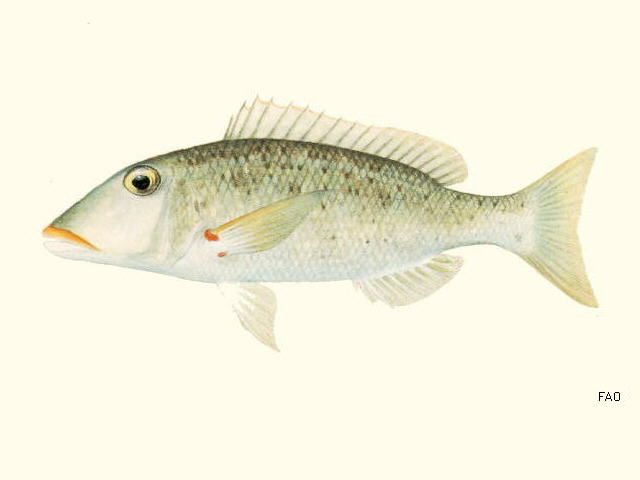fish: (41, 93, 600, 353)
